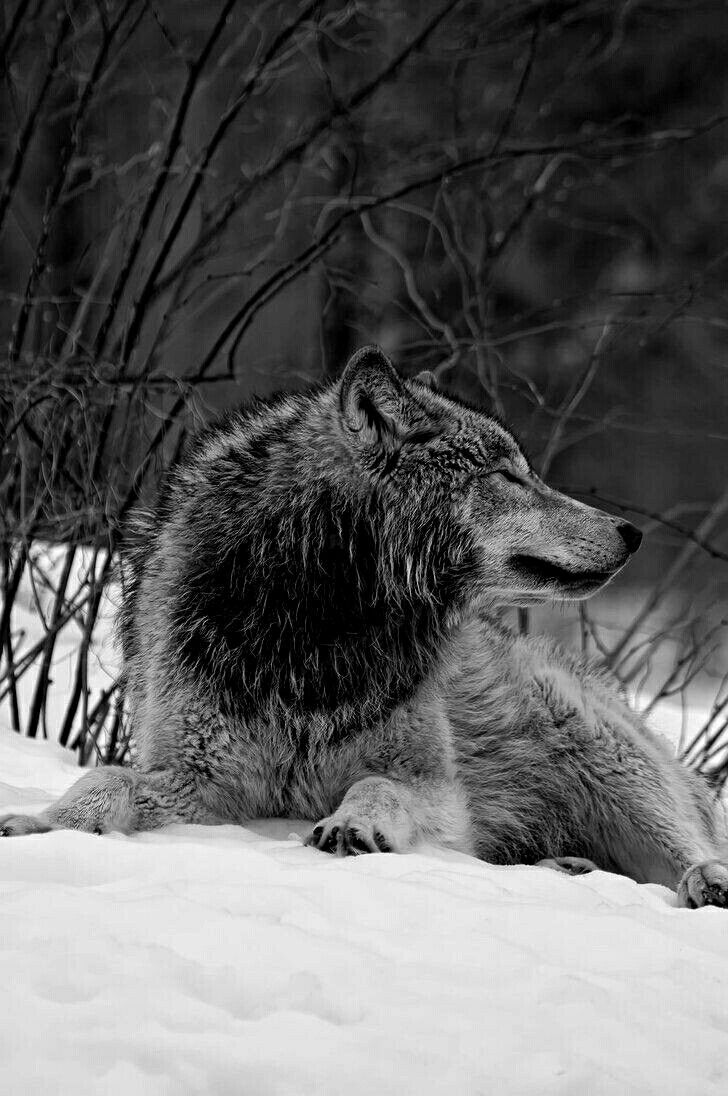Lobo: (67, 332, 704, 901)
